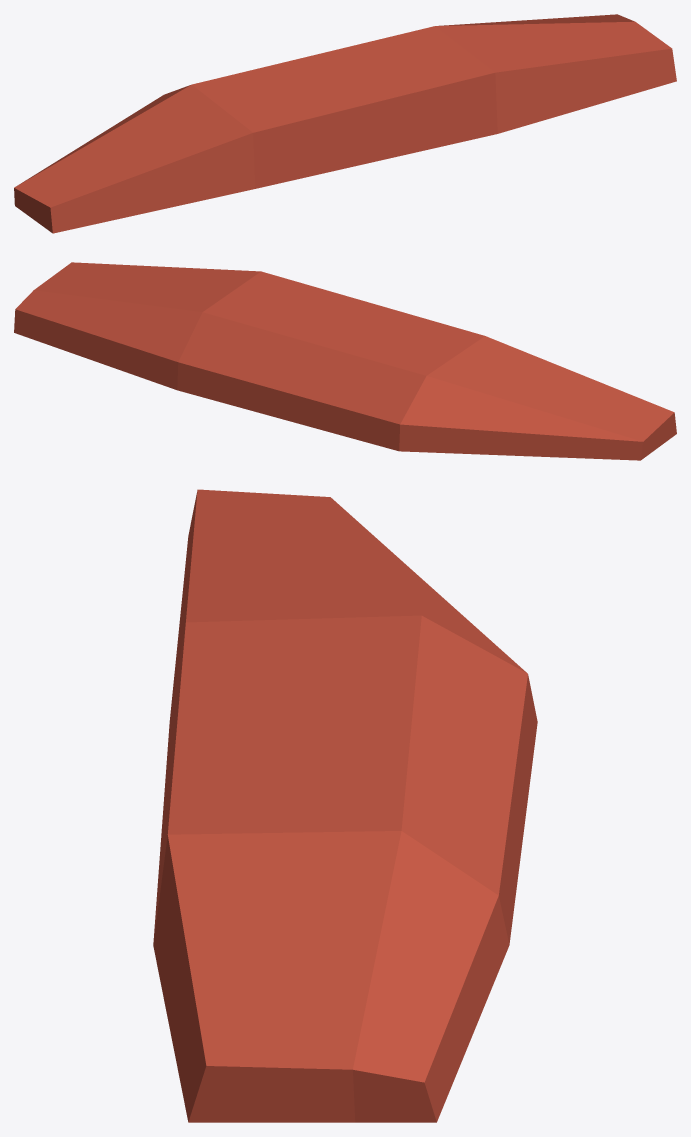
File: salmonFillet.fbx
The picture shows the model from 3 angles, top to bottom: view 1: azimuth 30°, elevation 25°; view 2: azimuth 150°, elevation 25°; view 3: azimuth 270°, elevation 25°; orthographic projection. The views are drawn at different scales.
Parts seen in each view (by area): view 1: salmonFillet; view 2: salmonFillet; view 3: salmonFillet.
Part boxes in pixels (x1,y1,x2,y2): salmonFillet: (14, 14, 676, 233); salmonFillet: (14, 262, 676, 460); salmonFillet: (153, 489, 537, 1122).
Bounding box in the file's own units: 53.76 × 4.93 × 14.8.
Materials: 1 (1 with a texture image).
